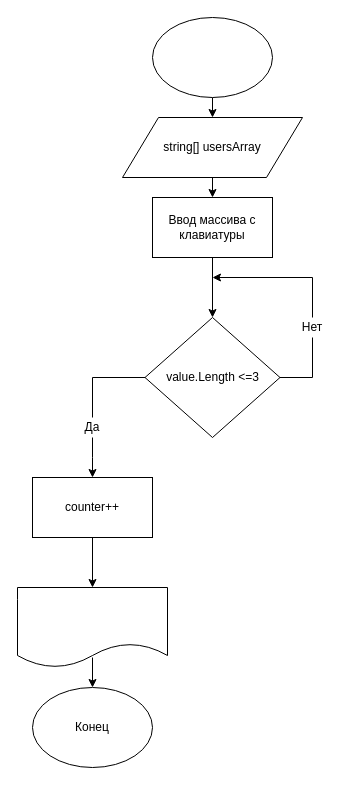
Image size: 350x785. Some labels were removed from this diagram. The centre of each missing label's shape, as x and y in pixels:
"Console.WriteLine(value)" belongs at (92,627).
"Начало" belongs at (212,57).
